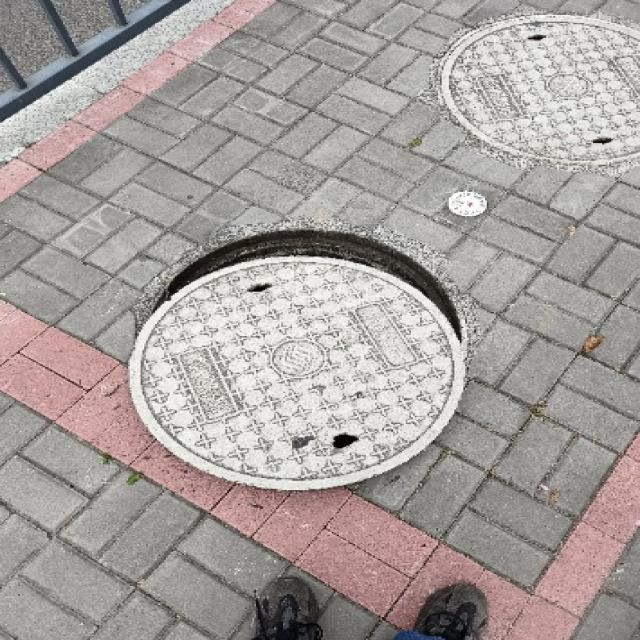Faulty: (114, 214, 493, 506)
Good: (422, 3, 640, 191)
